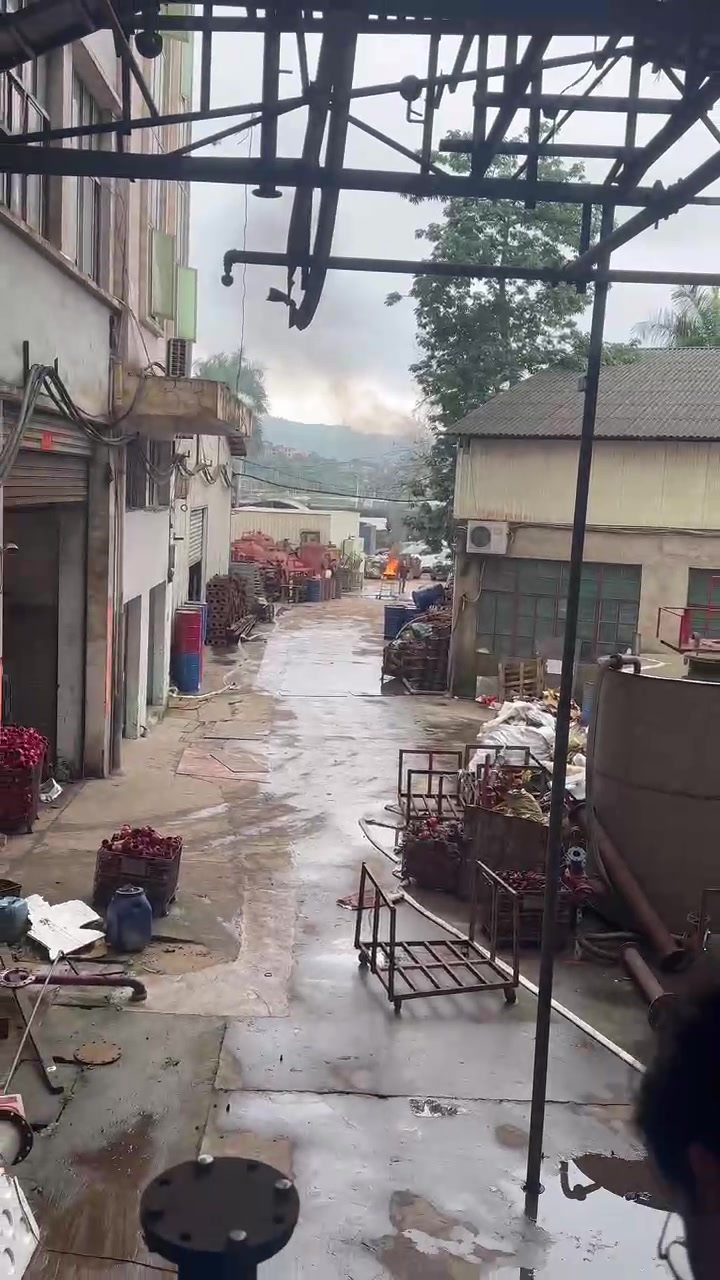fire: (383, 559, 397, 573)
